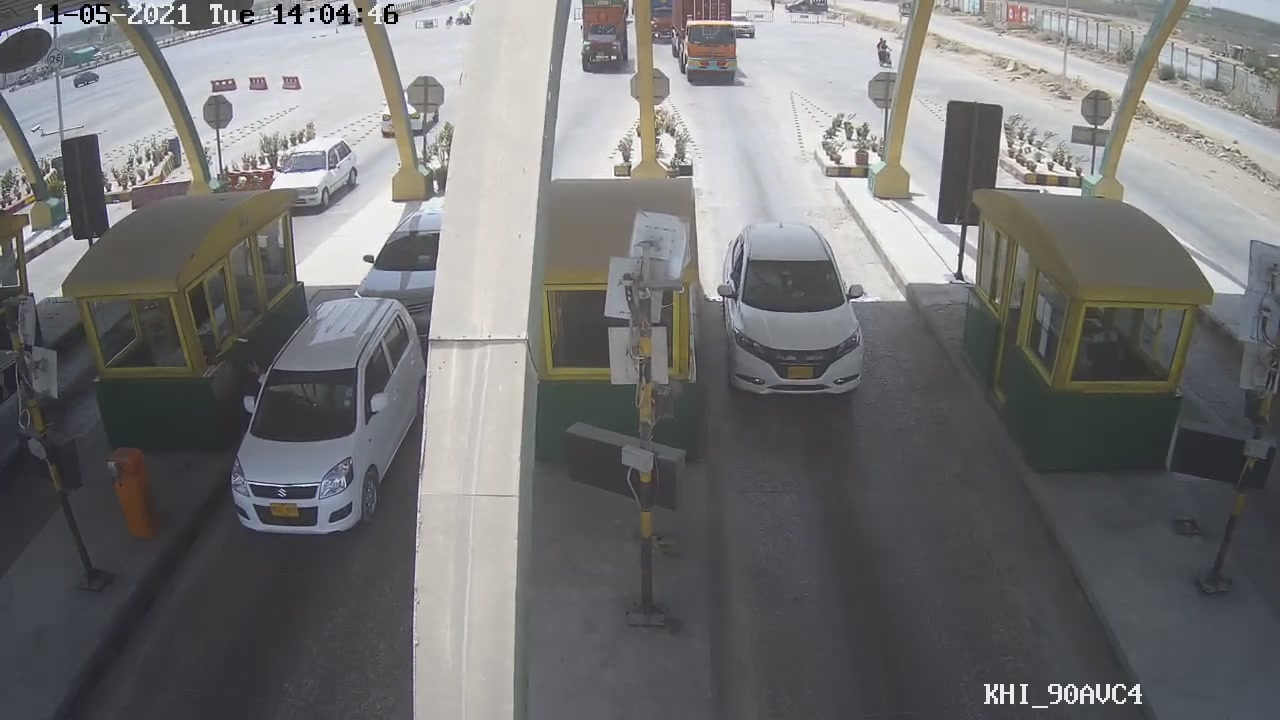F1: (708, 215, 883, 403)
